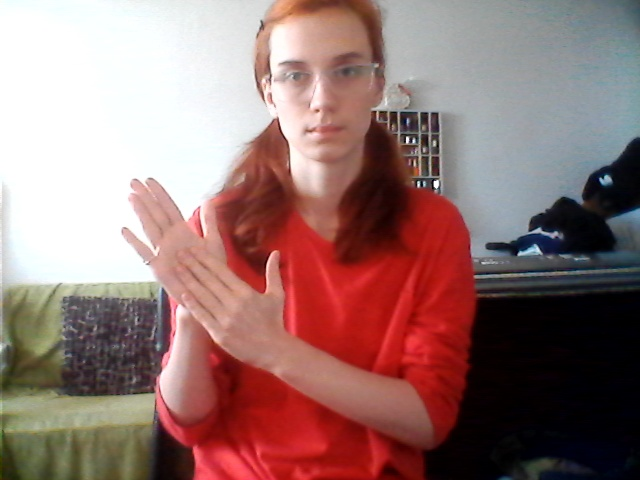m: (118, 164, 294, 379)
